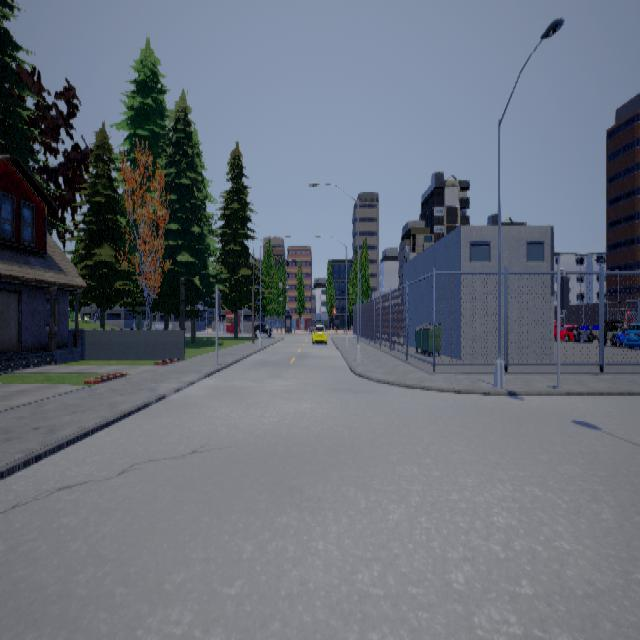traffic_light: (332, 308, 334, 317)
vehicle: (603, 318, 639, 347), (559, 322, 598, 342), (309, 322, 327, 342)
